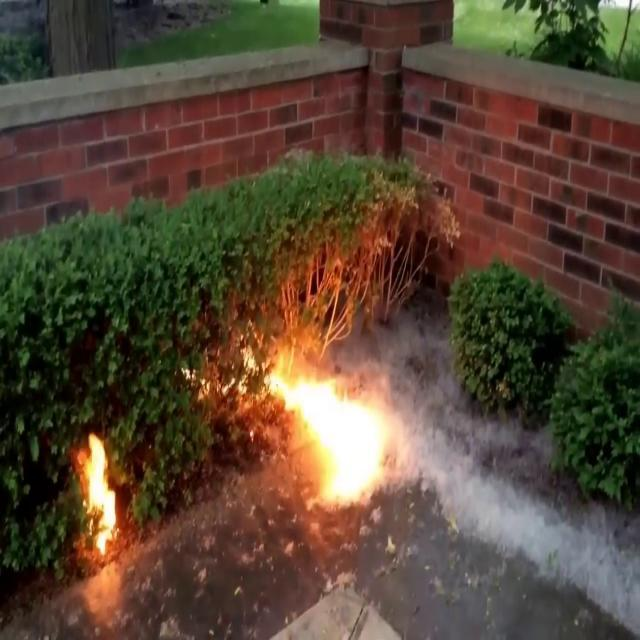Fire: (232, 334, 400, 503), (78, 427, 120, 553)
Smoke: (393, 309, 639, 631)
